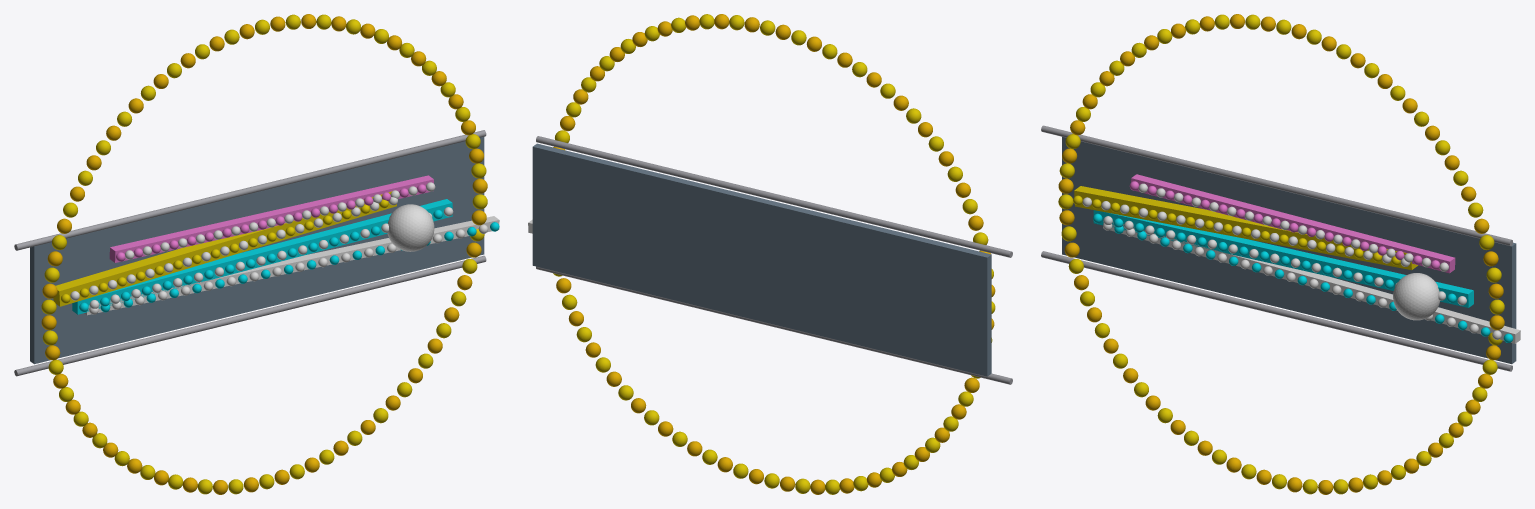
Rendered from numbermagic_panel_fieldart_pack.glb.
3 views of the same model, side by side, from view 1: azimuth 30°, elevation 25°; view 2: azimuth 150°, elevation 25°; view 3: azimuth 330°, elevation 25° (orthographic).
Visible parts, largest first — view 1: part_0, part_1, part_2, part_7, part_6, part_3, part_4, part_5; view 2: part_0, part_7, part_6; view 3: part_0, part_2, part_1, part_7, part_6, part_3, part_4, part_5.
Boxes of the visible parts, x1,y1,x2,y2 form: part_0: [30, 137, 484, 364]; part_1: [53, 191, 396, 306]; part_2: [72, 199, 452, 314]; part_7: [14, 130, 486, 250]; part_6: [14, 255, 486, 376]; part_3: [109, 175, 433, 262]; part_4: [84, 216, 499, 315]; part_5: [387, 204, 434, 251]; part_0: [532, 143, 991, 376]; part_7: [536, 136, 1012, 257]; part_6: [536, 266, 1012, 384]; part_0: [1062, 137, 1516, 364]; part_2: [1093, 210, 1473, 307]; part_1: [1074, 186, 1417, 270]; part_7: [1041, 125, 1512, 245]; part_6: [1041, 251, 1512, 371]; part_3: [1131, 174, 1455, 273]; part_4: [1103, 221, 1520, 343]; part_5: [1393, 273, 1439, 320].
Size of the model in its own units: 2.55 by 2.37 by 0.25.
